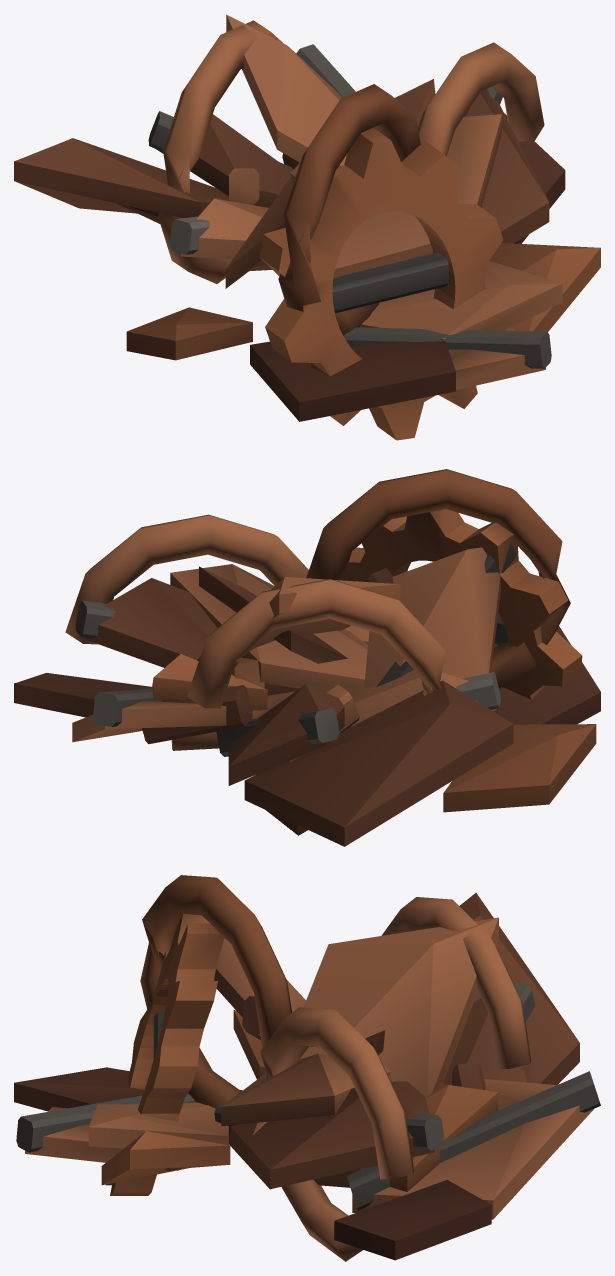
File: building-magnetCrane-scrapLarge.glb
3 renders of one model, top to bottom at view 1: azimuth 30°, elevation 25°; view 2: azimuth 150°, elevation 25°; view 3: azimuth 270°, elevation 25°, orthographic.
Visible parts, largest first — view 1: 0_magnetCrane-scrapLarge; view 2: 0_magnetCrane-scrapLarge; view 3: 0_magnetCrane-scrapLarge.
Part boxes in pixels (left/top/right/bottom): 0_magnetCrane-scrapLarge: left=14, top=14, right=600, bottom=440; 0_magnetCrane-scrapLarge: left=14, top=469, right=600, bottom=846; 0_magnetCrane-scrapLarge: left=14, top=875, right=600, bottom=1261.
Size of the model in its own units: 1.99 by 1.13 by 2.
